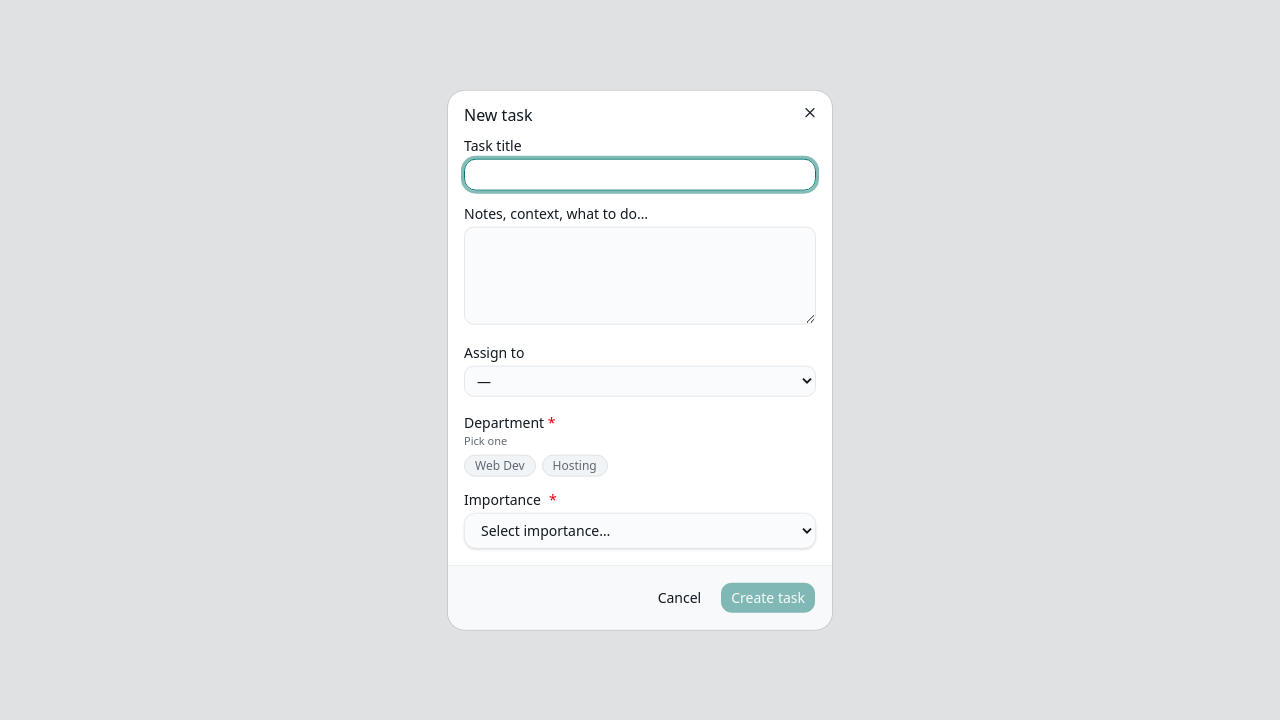
it: NewAssignedTaskDialog › keeps submit disabled until title, assignee, department AND importance are picked
Expected: the button "Create task" is disabled, [720,581,816,613]
Type "My task" into the field labelled "Task title" at [640, 175], box [464,159,816,191]
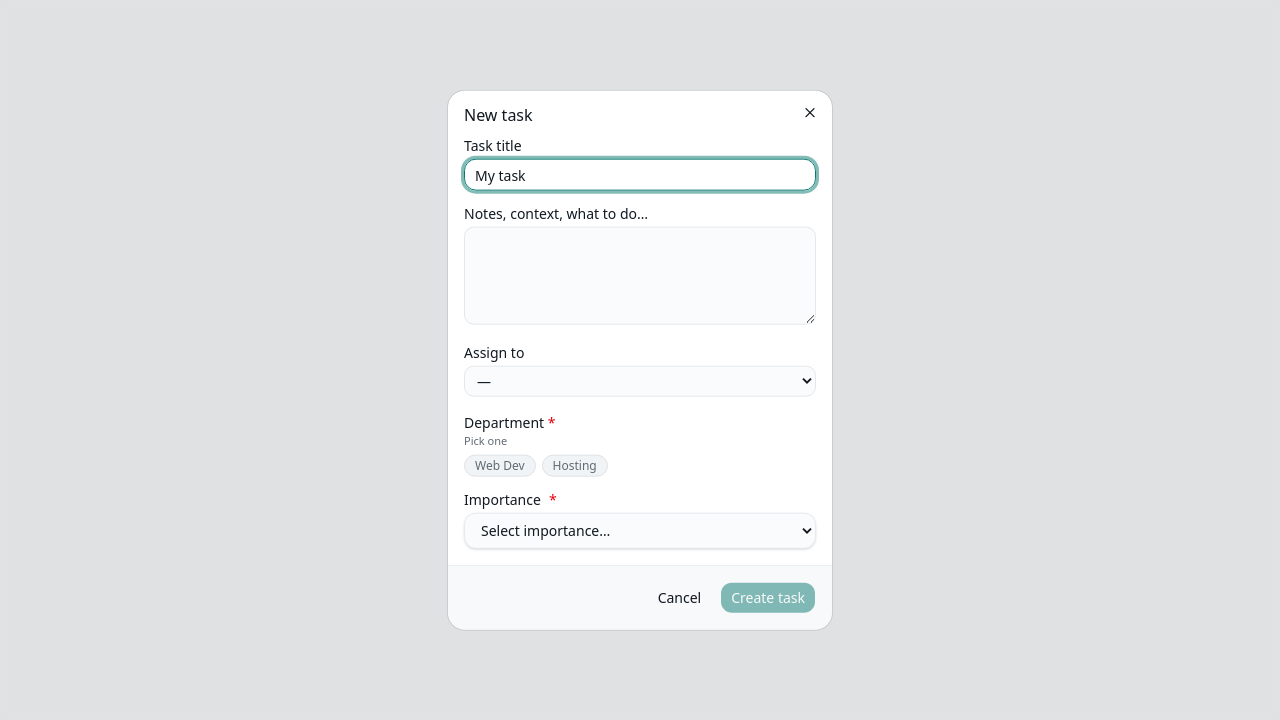
Select "Mkifokeris" in the dropdown labelled "Assign to" at [640, 381], box [464,366,816,397]
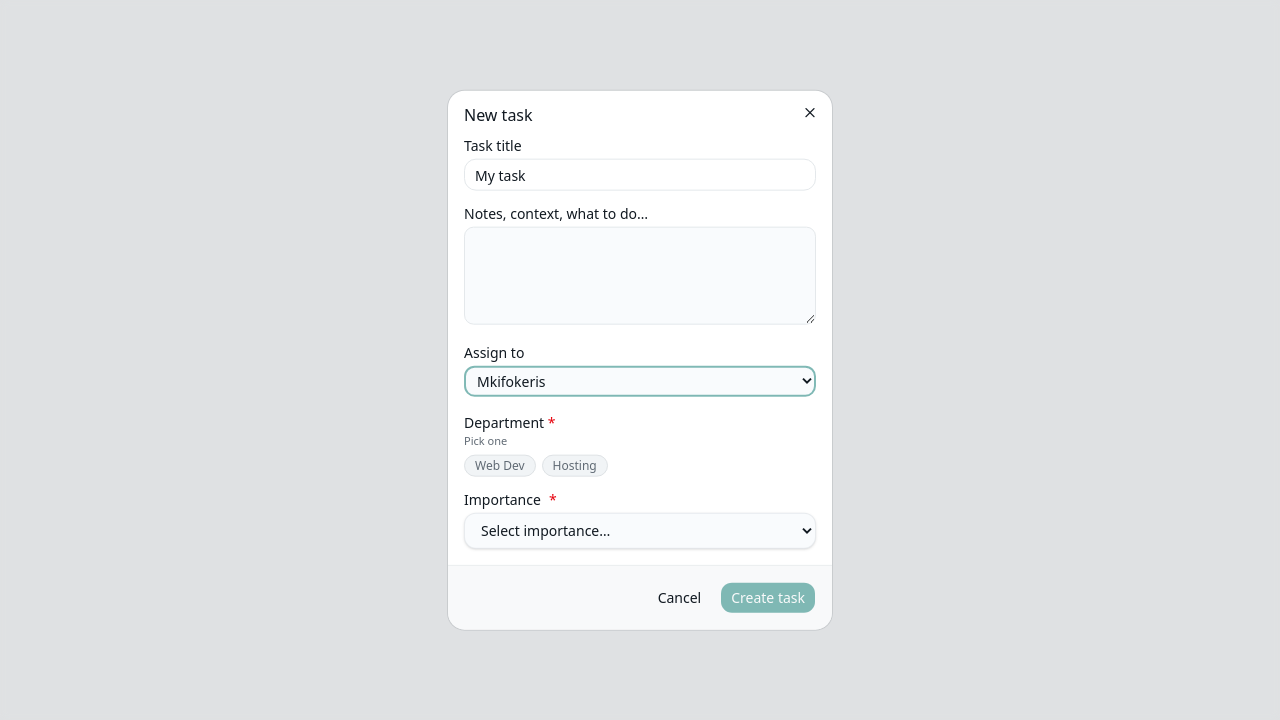
Click the radio button labelled "Web Dev" at [500, 465], box [464,454,536,476]
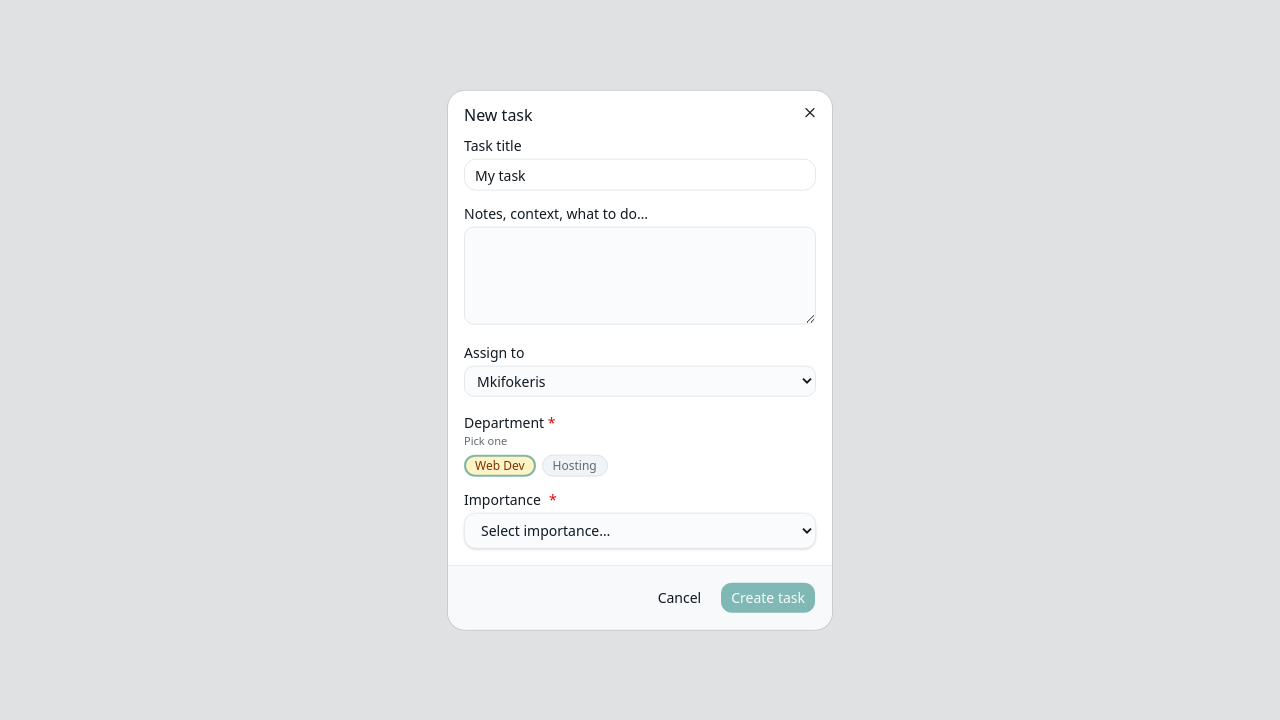
Expected: the button "Create task" is disabled, [720,581,816,613]
Select "Low" in the dropdown labelled "Importance *" at [640, 530], box [464,512,816,548]
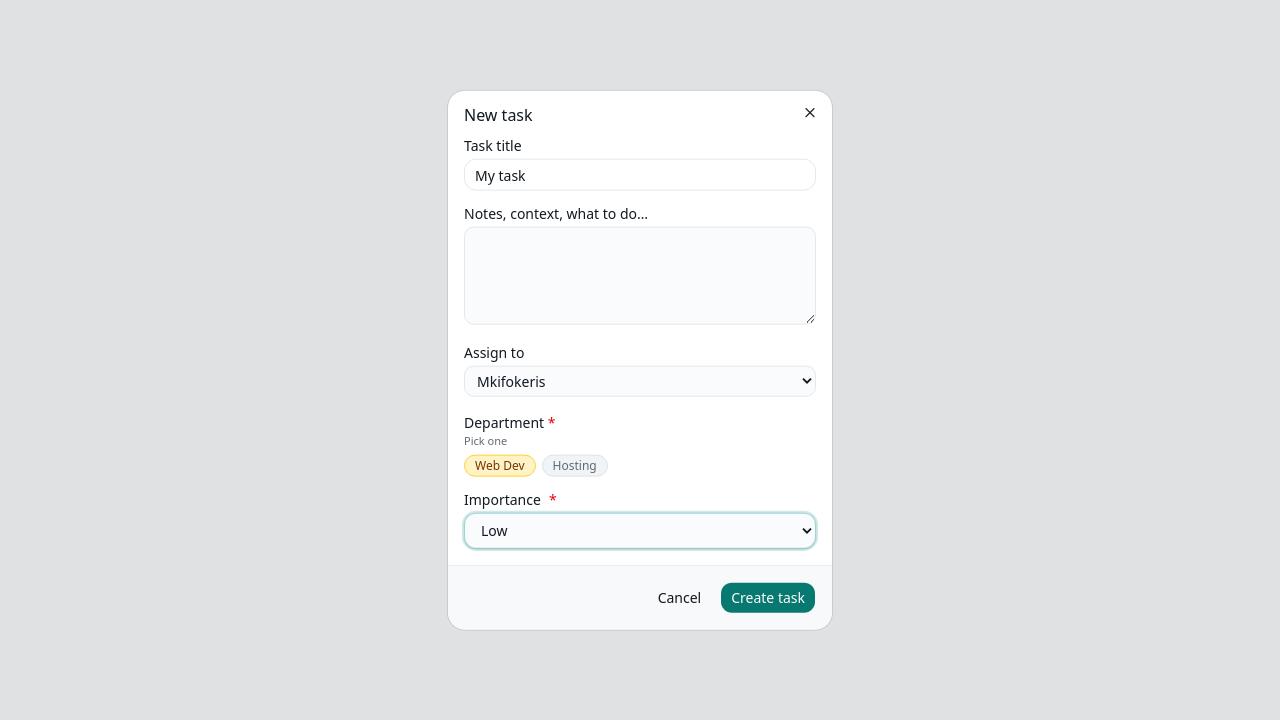
Now the button "Create task" is enabled, box [720,581,816,613]
